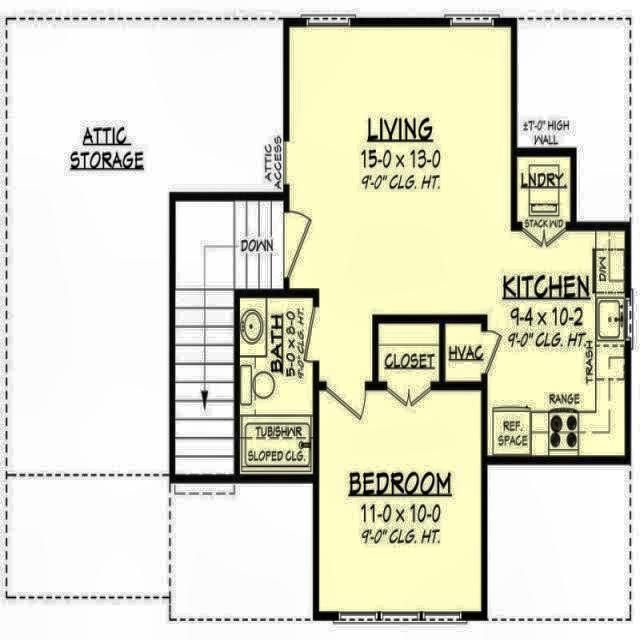room: (289, 28, 625, 454), (319, 324, 481, 611), (240, 299, 313, 473)
